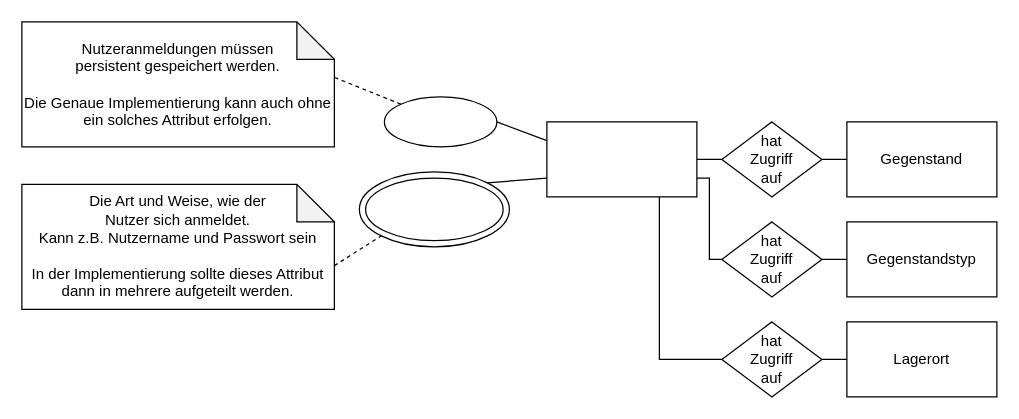
This 1019x419 diagram has some shape labels left out. Here are the shapes that lost their labels. From the top down, the centre of each, then its label:
At pixel 440 121: "Session-Token".
At pixel 621 159: "Nutzer".
At pixel 433 209: "Authentifizierungs- Daten".
